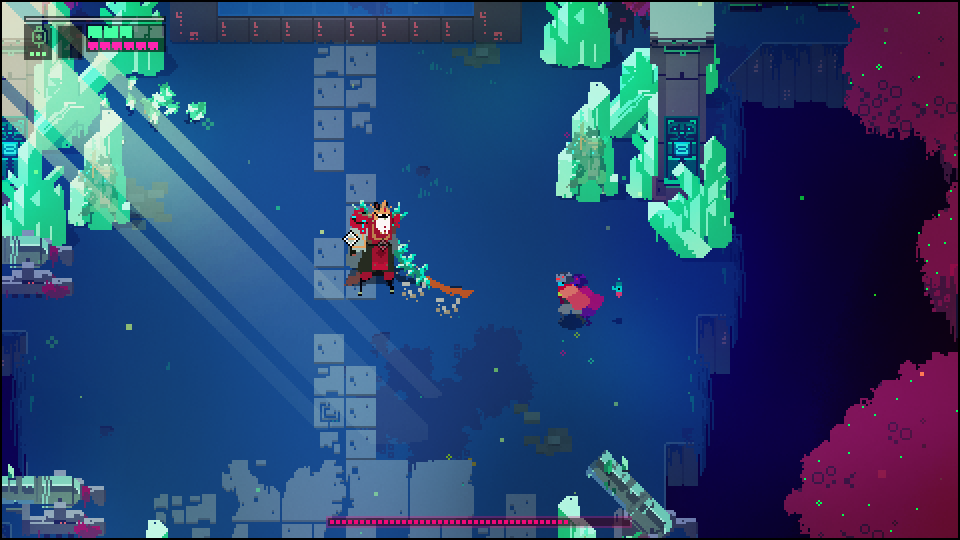hanged_man: (339, 197, 453, 304)
player: (551, 277, 590, 324)
